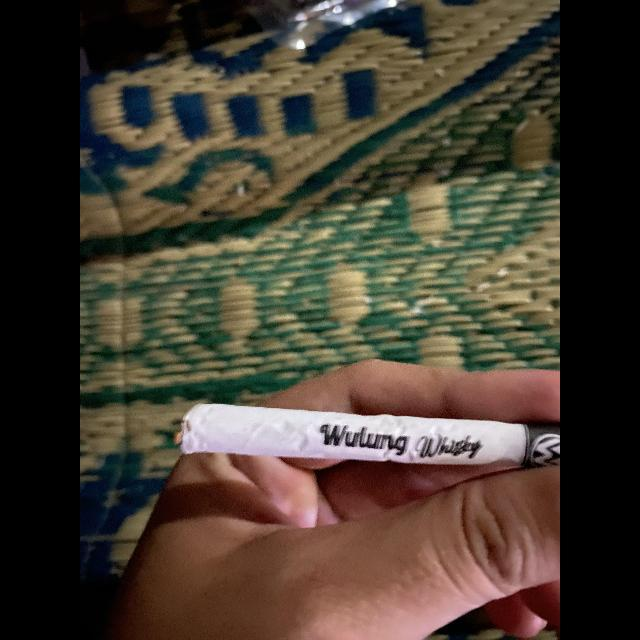rokok: (170, 398, 560, 469)
